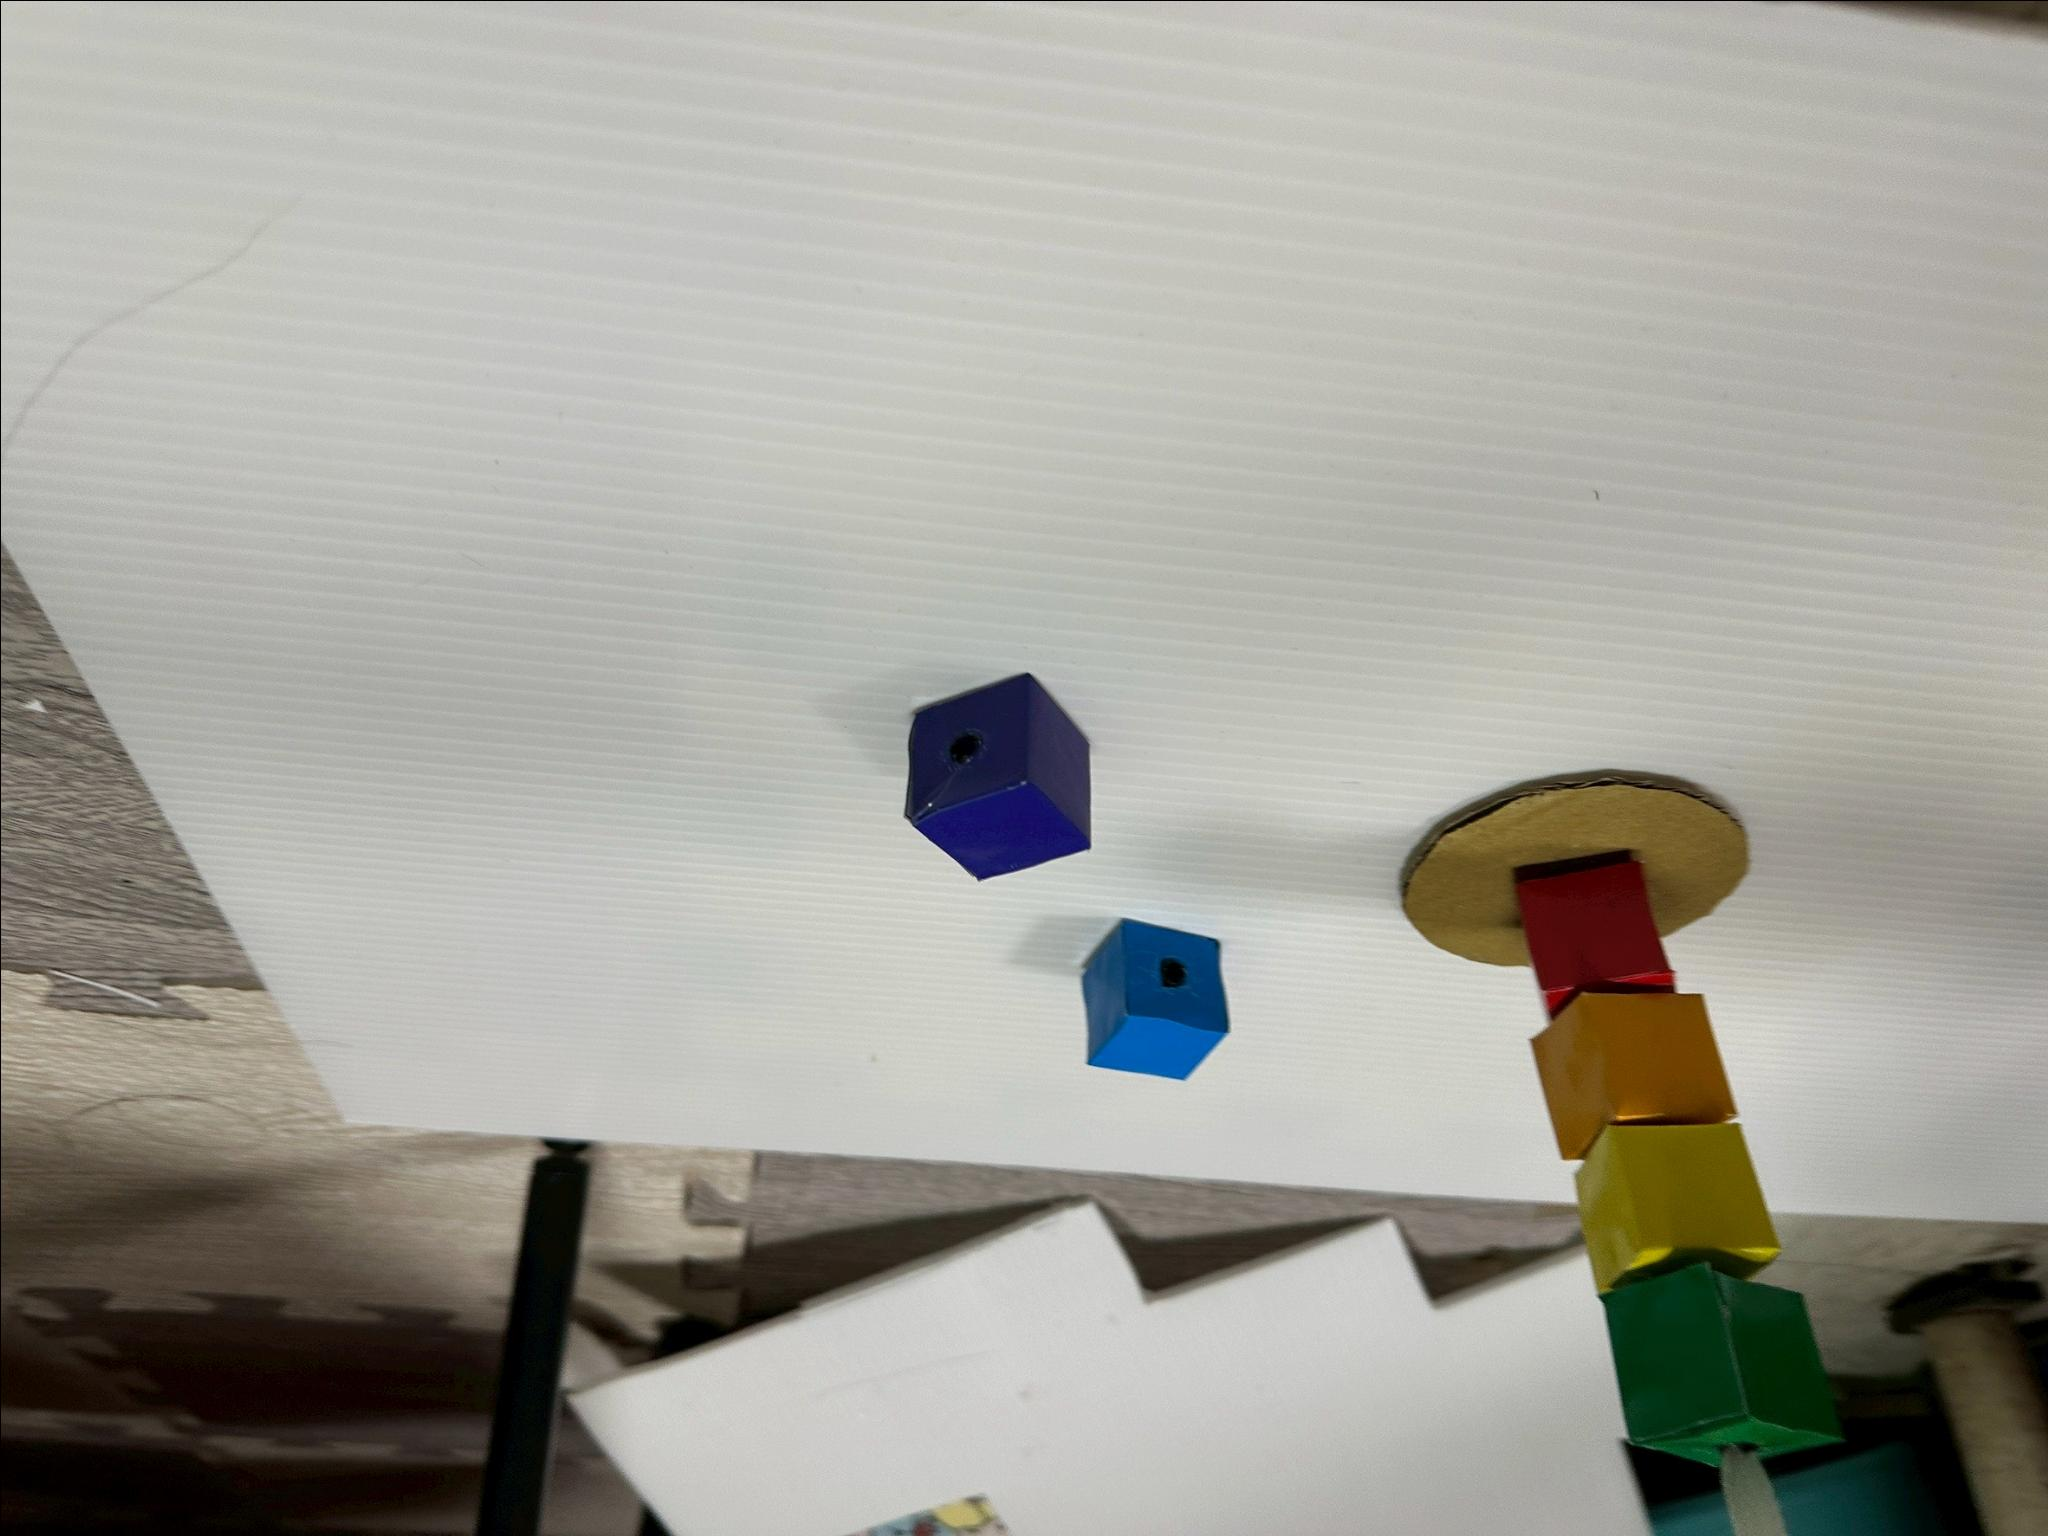base: (1401, 783, 1748, 965)
cube: (1601, 1262, 1842, 1465), (905, 674, 1089, 878), (1576, 1121, 1779, 1292), (1530, 992, 1735, 1160), (1516, 854, 1672, 1015), (1080, 920, 1227, 1079)
